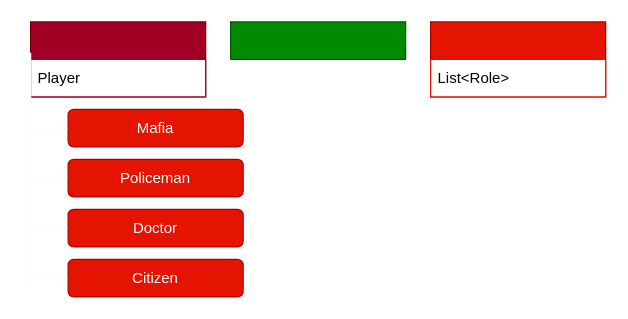
This 628x319 diagram has some shape labels left out. Here are the shapes that lost their labels. From the top down, the box of each, then its label:
(29, 21, 206, 97): Abstract class "Role"
(229, 21, 406, 59): Interface "Player"
(429, 21, 606, 97): Class "Game"
